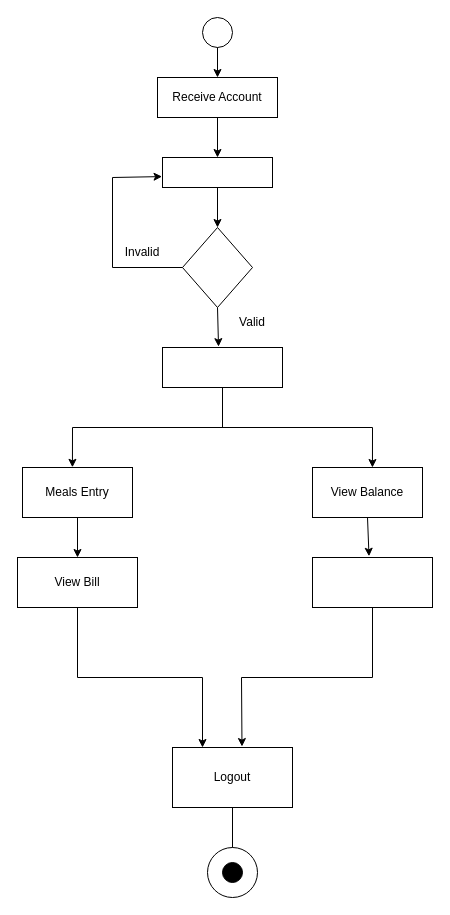
The diagram is 450 pixels wide and 915 high, and some of its shapes have lost their labels. The box of each missing label's shape, as (x1, y1, x2, y2) in pixels:
Dashboard: (162, 346, 282, 388)
Deposit: (312, 556, 432, 608)
Login: (162, 156, 272, 188)
